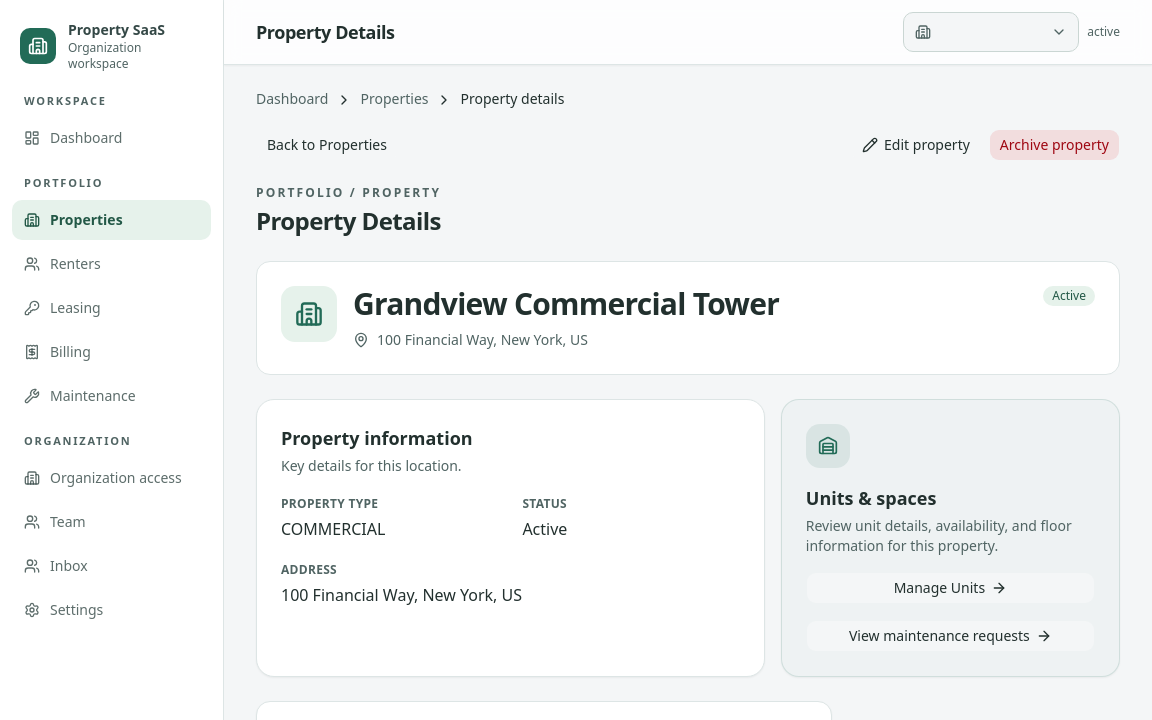
Scenario: opens property units and returns to details within the shared shell
The width and height of the screenshot is (1152, 720).
What coordinates should you click on to do the following:
click the link "Manage Units"
I would click on:
 (950, 588)
Its box is [806, 572, 1095, 604].
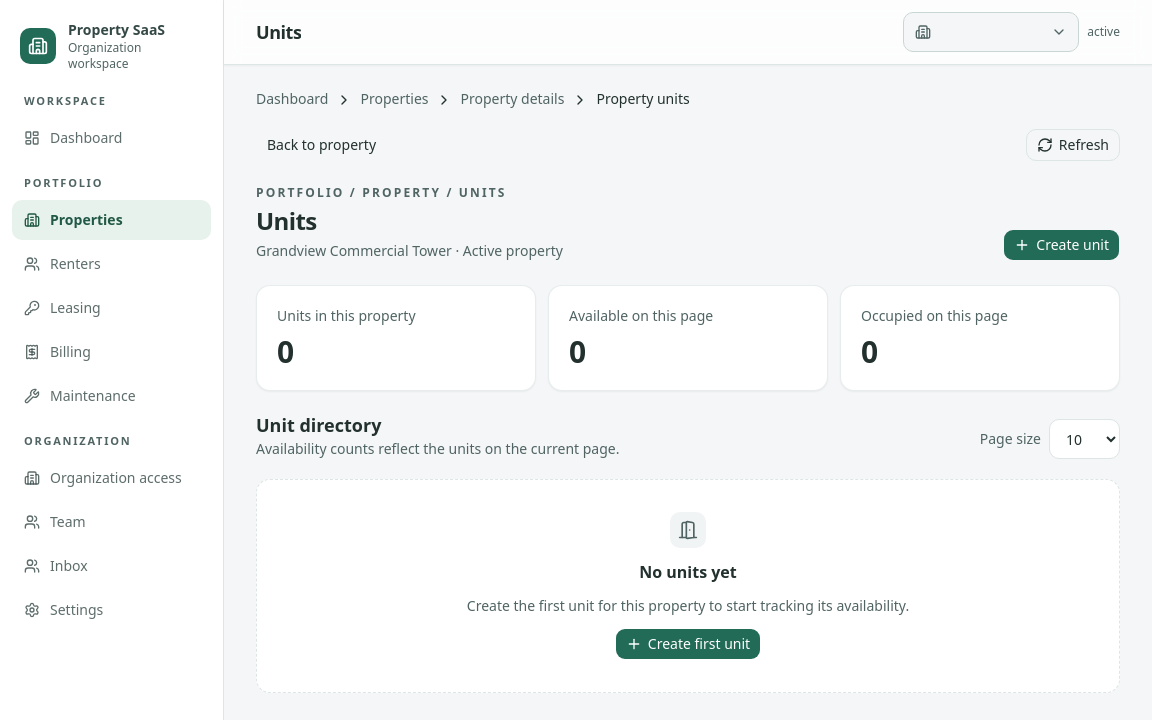
expect the heading "Units" below "Portfolio / Property / Units" is shown: met, box [256, 204, 317, 237]
What coordinates should you click on to do the following:
click the link "Back to property"
I would click on:
 (322, 145)
Its box is [256, 129, 387, 161].
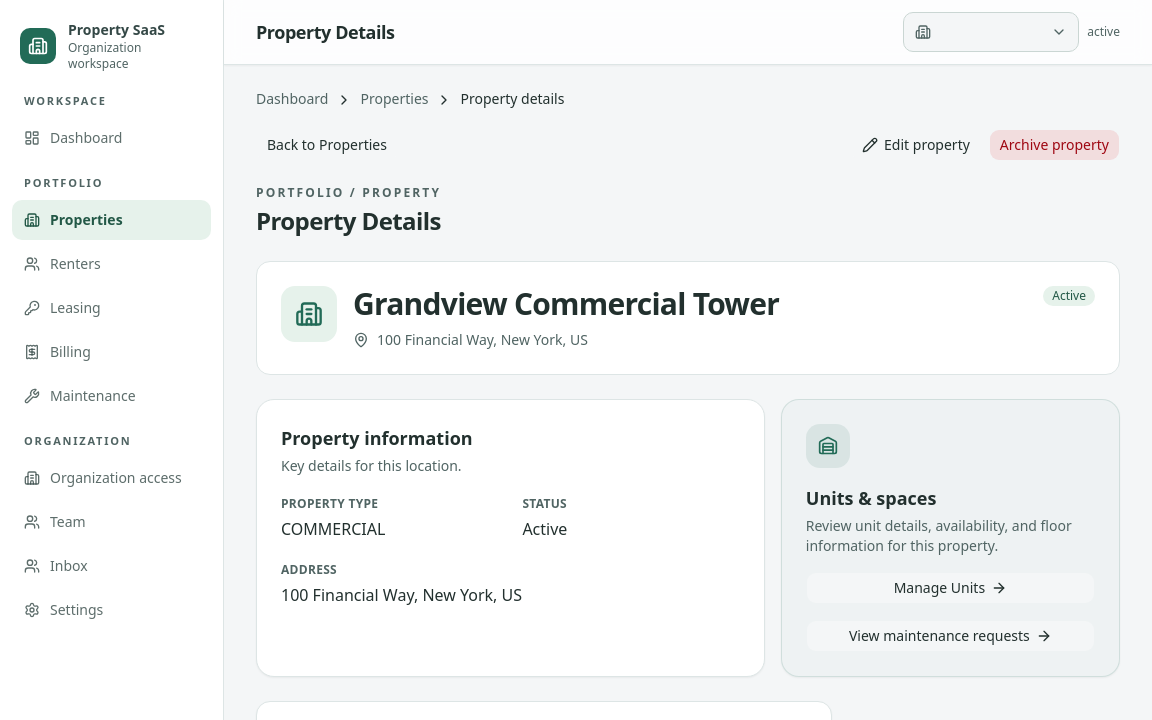
expect the navigation bar named "Main navigation" is shown: met, box [0, 92, 223, 646]
expect the heading "Property Details" below "Portfolio / Property" is shown: met, box [256, 204, 441, 237]
